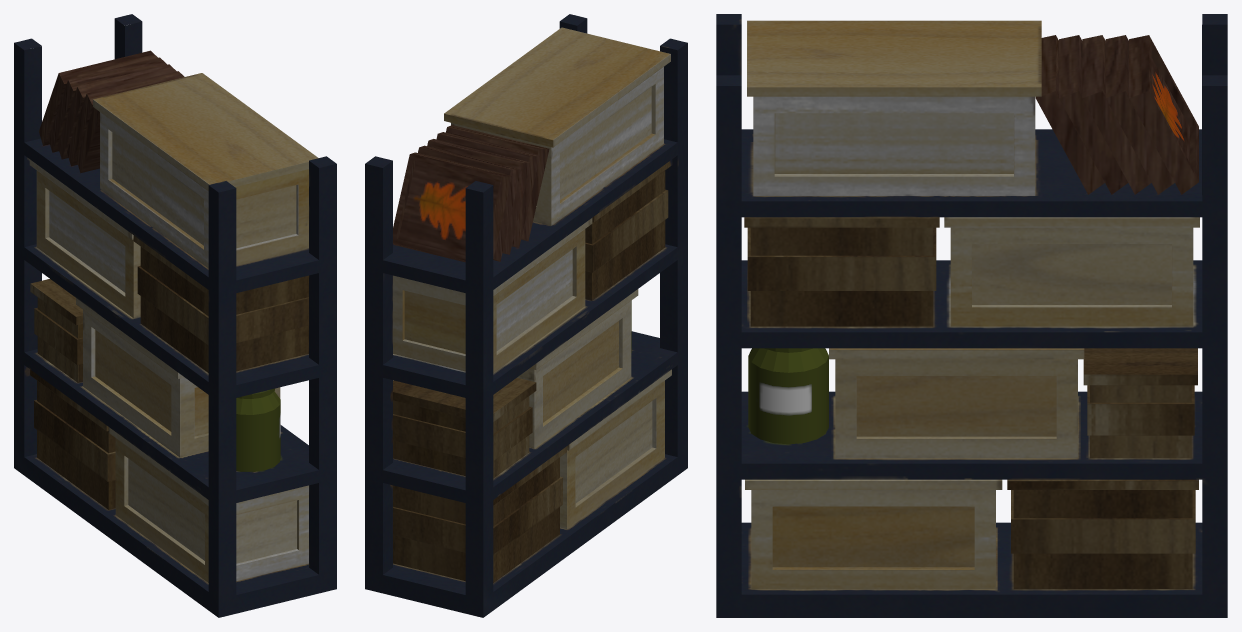
The model's file is shelf_v8.glb.
3 renders of one model, left to right at view 1: azimuth 30°, elevation 25°; view 2: azimuth 150°, elevation 25°; view 3: azimuth 270°, elevation 25°, orthographic. The views are drawn at different scales.
Visible parts, largest first — view 1: shelf_v8_tester_pCube265; view 2: shelf_v8_tester_pCube265; view 3: shelf_v8_tester_pCube265.
Boxes of the visible parts, x1,y1,x2,y2 form: shelf_v8_tester_pCube265: [14, 14, 336, 617]; shelf_v8_tester_pCube265: [365, 14, 687, 617]; shelf_v8_tester_pCube265: [716, 14, 1227, 617].
Size of the model in its own units: 4 by 13.76 by 12.
1 material, 1 textured.
